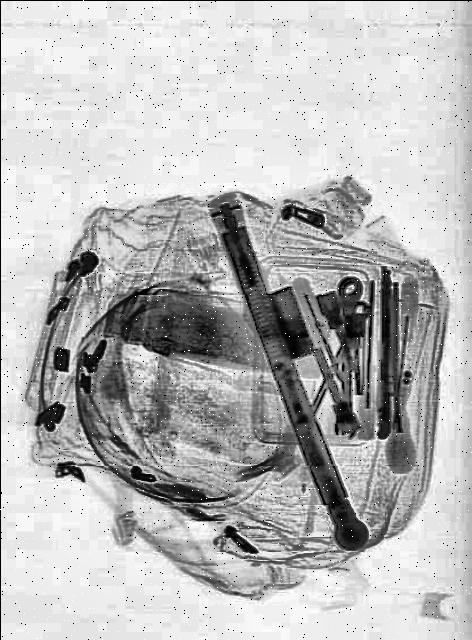Wrench: (334, 274, 366, 438)
